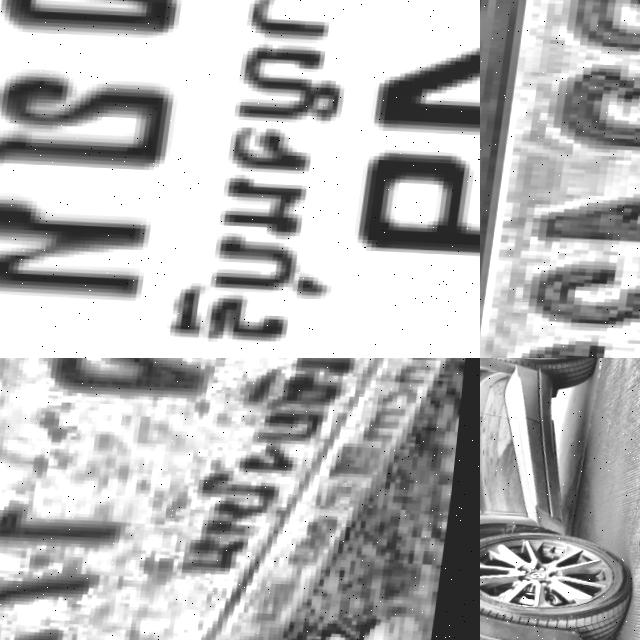license-plate: (0, 0, 480, 358), (0, 358, 480, 640), (480, 0, 640, 358)
